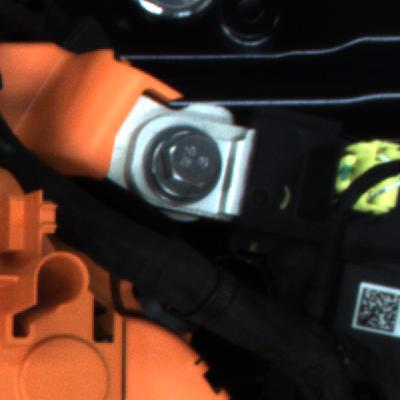nut_b: (140, 125, 232, 210)
